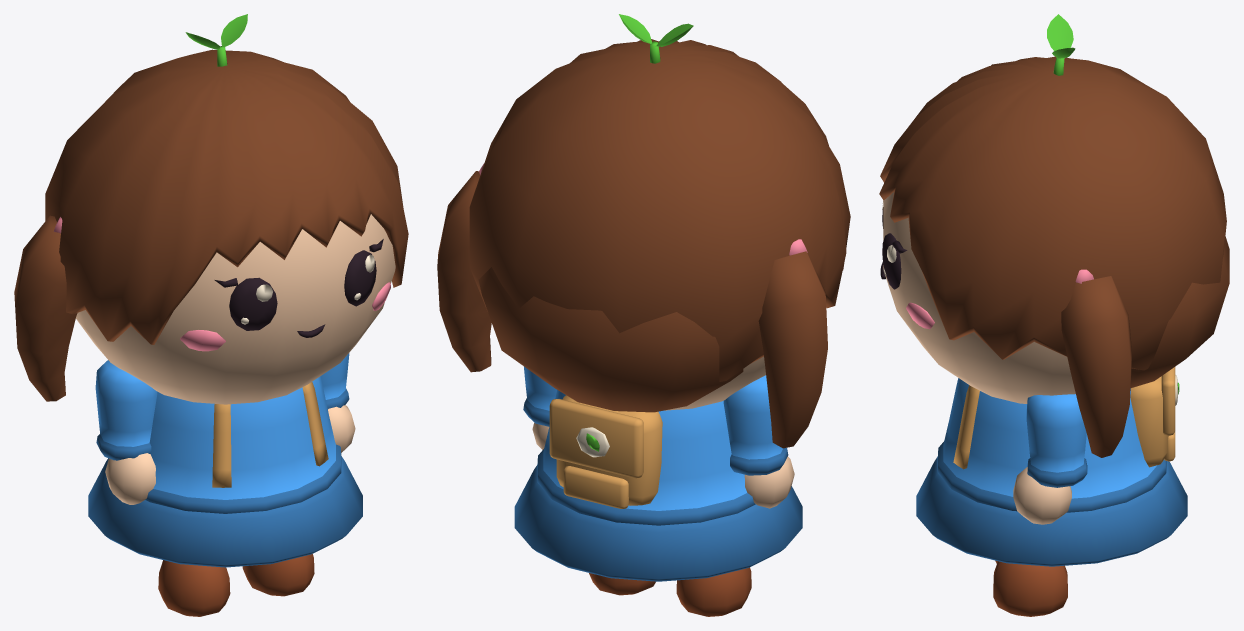
The model's file is hero-woman-tiny.glb.
3 renders of one model, left to right at view 1: azimuth 30°, elevation 25°; view 2: azimuth 150°, elevation 25°; view 3: azimuth 270°, elevation 25°, orthographic. The views are drawn at different scales.
Visible parts, largest first — view 1: head, body, arm-left, leg-left, leg-right, arm-right, head-leaf; view 2: head, body, arm-left, leg-left, arm-right, head-leaf, leg-right; view 3: head, body, arm-right, leg-right, head-leaf.
Part boxes in pixels (x1,y1,x2,y2): head: (14,49,408,404); body: (88,376,362,567); arm-left: (95,360,157,504); leg-left: (158,560,230,616); leg-right: (242,554,314,596); arm-right: (320,353,355,452); head-leaf: (185,14,247,66); head: (437,39,850,448); body: (514,390,802,581); arm-left: (723,375,794,508); leg-left: (676,567,751,616); arm-right: (523,366,556,449); head-leaf: (619,14,693,63); leg-right: (589,573,655,595); head: (879,56,1229,457); body: (916,367,1187,566); arm-right: (1013,394,1087,524); leg-right: (993,561,1067,616); head-leaf: (1047,14,1075,75).
Bounding box in the file's own units: 1.59 × 2.3 × 1.31.
